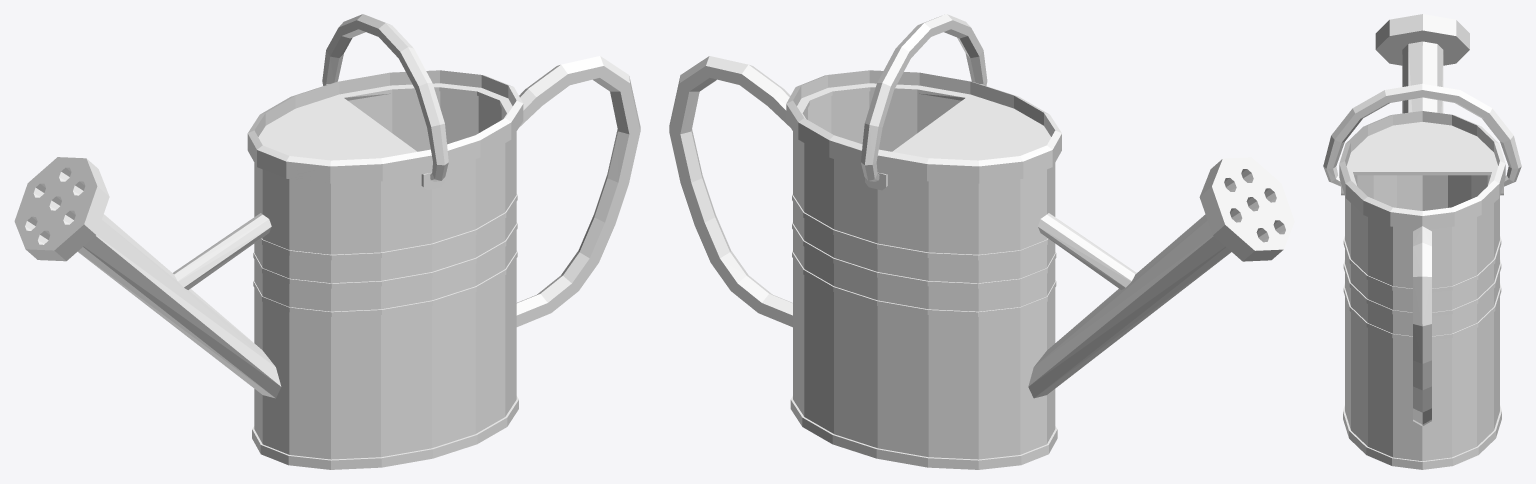
File: Tool_Watering_Can_01.glb
3 views of the same model, side by side, from view 1: azimuth 30°, elevation 25°; view 2: azimuth 150°, elevation 25°; view 3: azimuth 270°, elevation 25° (orthographic). The views are drawn at different scales.
Parts seen in each view (by area): view 1: Tool_Watering Can_01; view 2: Tool_Watering Can_01; view 3: Tool_Watering Can_01.
Boxes of the visible parts, x1,y1,x2,y2 form: Tool_Watering Can_01: [14, 14, 640, 469]; Tool_Watering Can_01: [669, 14, 1294, 469]; Tool_Watering Can_01: [1323, 14, 1521, 469].
Size of the model in its own units: 0.6376 by 0.3972 by 0.2132.
Materials: 1 (1 with a texture image).
